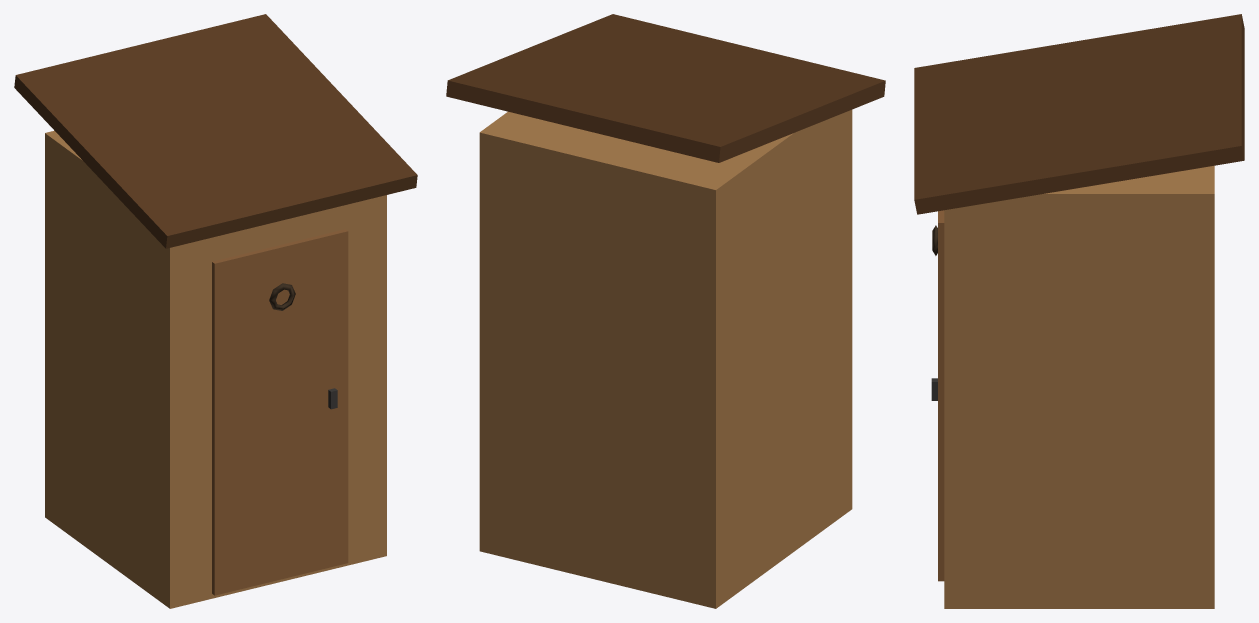
The model's file is outhouse.glb.
3 views of the same model, side by side, from view 1: azimuth 30°, elevation 25°; view 2: azimuth 150°, elevation 25°; view 3: azimuth 270°, elevation 25° (orthographic). The views are drawn at different scales.
Parts seen in each view (by area): view 1: outhouse; view 2: outhouse; view 3: outhouse.
Boxes of the visible parts, x1,y1,x2,y2 form: outhouse: [14, 14, 417, 608]; outhouse: [446, 14, 885, 608]; outhouse: [914, 14, 1244, 608].
Size of the model in its own units: 1.5 by 2.5 by 1.59.
